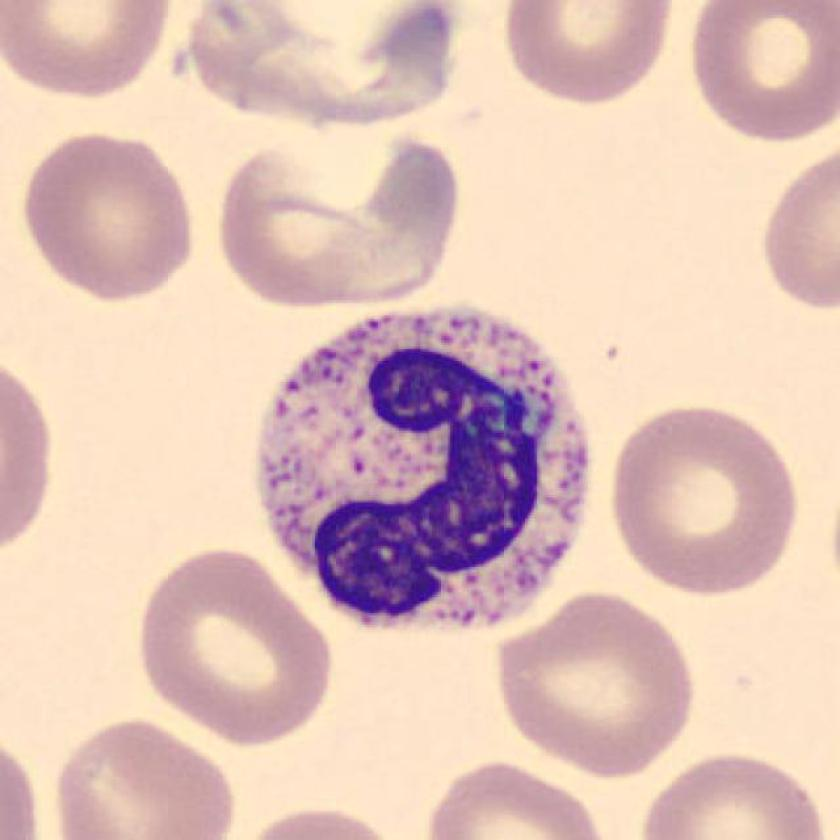neutrophil: (256, 307, 587, 624)
